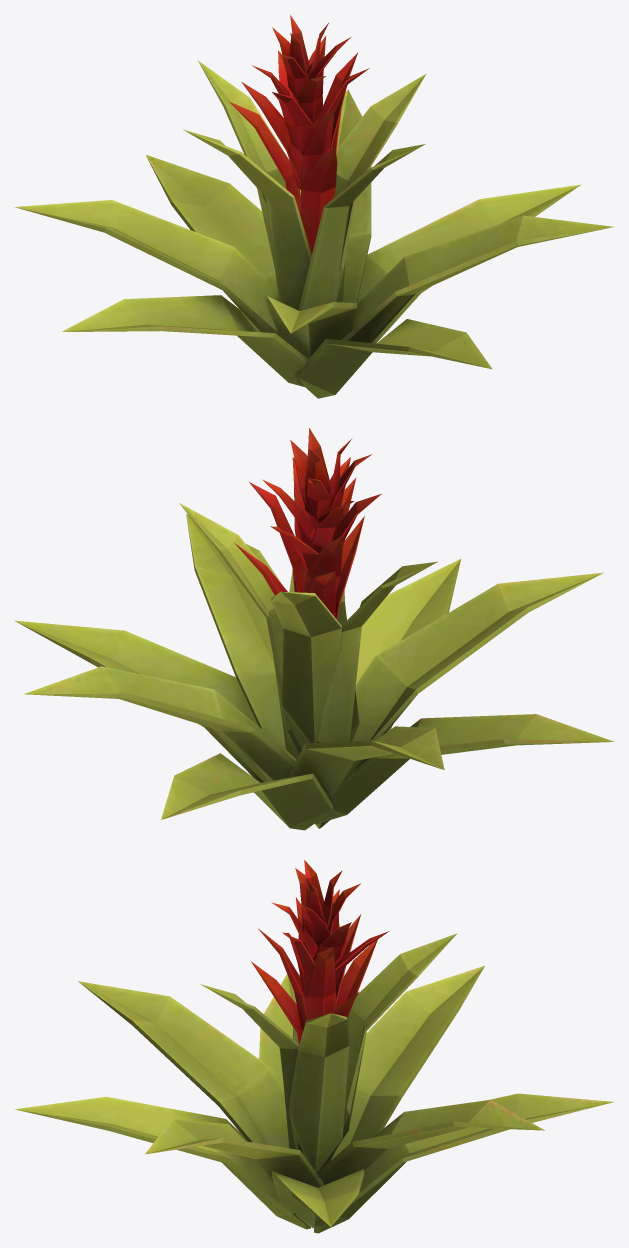
Rendered from bromeliad.glb.
3 renders of one model, top to bottom at view 1: azimuth 30°, elevation 25°; view 2: azimuth 150°, elevation 25°; view 3: azimuth 270°, elevation 25°, orthographic. The views are drawn at different scales.
Visible parts, largest first — view 1: Bromeliads_mesh; view 2: Bromeliads_mesh; view 3: Bromeliads_mesh.
Boxes of the visible parts, x1=… form: Bromeliads_mesh: x1=14, y1=14, x2=614, y2=398; Bromeliads_mesh: x1=14, y1=428, x2=614, y2=830; Bromeliads_mesh: x1=15, y1=860, x2=613, y2=1233.
Bounding box in the file's own units: 6.83 × 4.5 × 6.86.
Materials: 1 (1 with a texture image).
